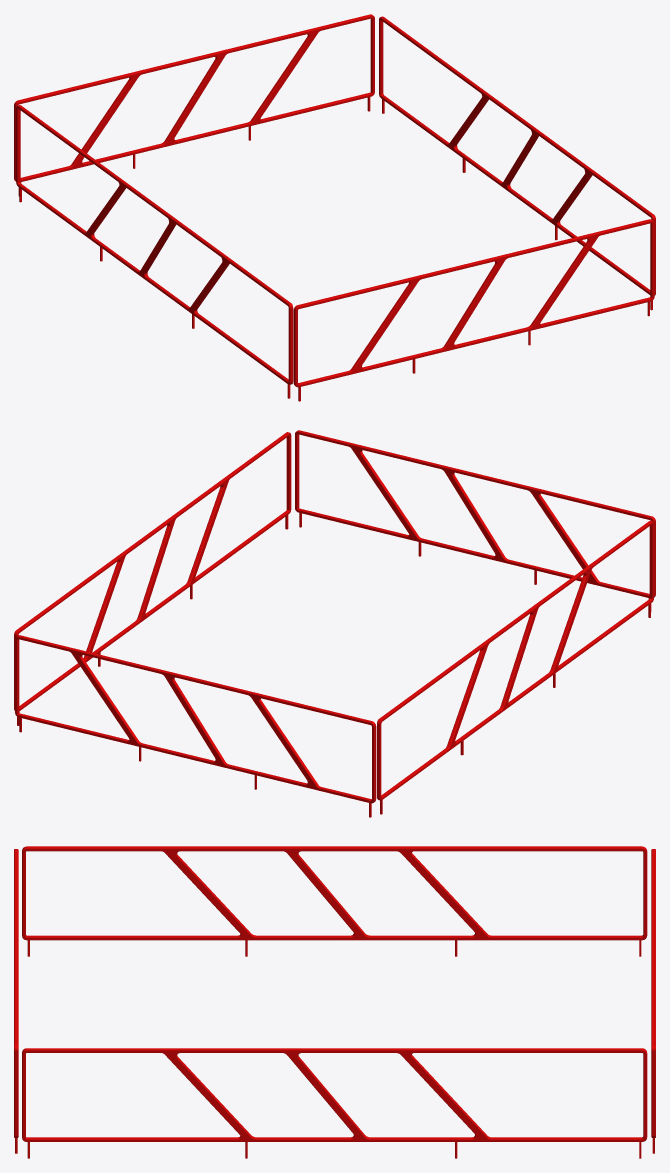
File: Perilla_4.fbx
3 renders of one model, top to bottom at view 1: azimuth 30°, elevation 25°; view 2: azimuth 150°, elevation 25°; view 3: azimuth 270°, elevation 25°, orthographic. The views are drawn at different scales.
Visible parts, largest first — view 1: L1:polySurface2192; view 2: L1:polySurface2192; view 3: L1:polySurface2192.
Boxes of the visible parts, x1,y1,x2,y2 form: L1:polySurface2192: [14, 14, 655, 401]; L1:polySurface2192: [14, 430, 655, 817]; L1:polySurface2192: [14, 846, 655, 1158].
Size of the model in its own units: 493 by 123 by 656.
